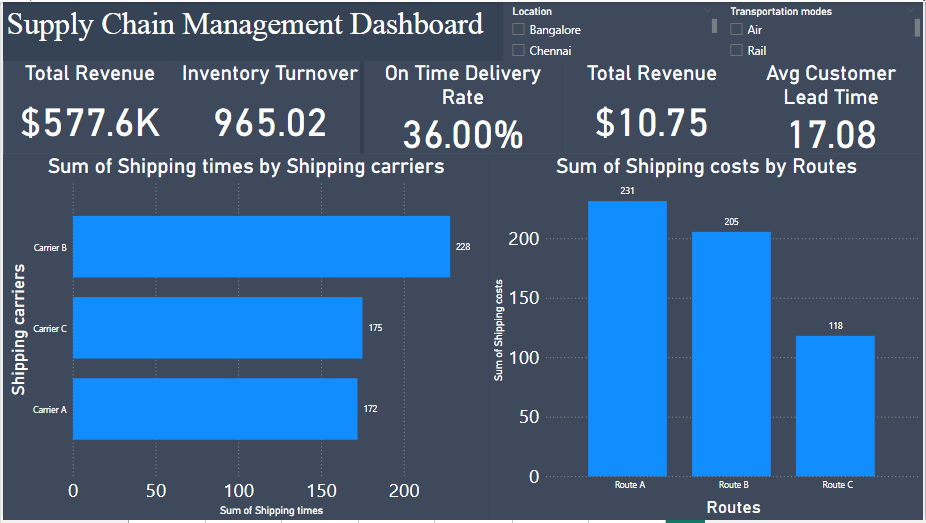

Layout of this report page (visuals, bound fields, positions):
{"tool":"powerbi","page":{"name":"Page 5","canvas":[1280,720],"ordinal":4},"visuals":[{"type":"textbox","box":[0,0,695,82],"z":0},{"type":"card","title":"Total Revenue","fields":{"Values":["supply_chain_data.Total Revenue"]},"box":[1.4,82,239.1,129.3],"z":1000},{"type":"card","title":"Inventory Turnover","fields":{"Values":["supply_chain_data.Stock Turnover Rate"]},"box":[240.5,82,261.3,129.3],"z":2000},{"type":"card","title":"On Time Delivery Rate ","fields":{"Values":["supply_chain_data.Defect Rate"]},"box":[496.2,82,286.3,129.3],"z":3000},{"type":"card","title":"Total Revenue","fields":{"Values":["supply_chain_data.Cost per order"]},"box":[782.5,82,239.1,129.3],"z":4000},{"type":"card","title":"Avg Customer Lead Time","fields":{"Values":["Avg(supply_chain_data.Lead time)"]},"box":[1021.6,82,258.5,129.3],"z":5000},{"type":"slicer","fields":{"Values":["supply_chain_data.Location"]},"box":[695,0,303,82],"z":6000},{"type":"barChart","fields":{"Category":["supply_chain_data.Shipping carriers"],"Y":["Sum(supply_chain_data.Shipping times)"]},"box":[0,211.3,675.5,508.7],"z":7000},{"type":"columnChart","fields":{"Y":["Sum(supply_chain_data.Shipping costs)"],"Category":["supply_chain_data.Routes"]},"box":[675.5,211.3,604.6,508.7],"z":8000},{"type":"slicer","fields":{"Values":["supply_chain_data.Transportation modes"]},"box":[997.8,0,282.2,82],"z":9000}]}

Visuals, with their boxes in screenshot pixels (x1, y1, x2, y2), scaled from the page's 1280x720 canvas onto the 926x523 screenshot:
textbox: region(0, 0, 503, 60)
"Total Revenue" card: region(1, 60, 174, 153)
"Inventory Turnover" card: region(174, 60, 363, 153)
"On Time Delivery Rate " card: region(359, 60, 566, 153)
"Total Revenue" card: region(566, 60, 739, 153)
"Avg Customer Lead Time" card: region(739, 60, 925, 153)
slicer - supply_chain_data.Location: region(503, 0, 722, 60)
barChart - supply_chain_data.Shipping carriers x Sum(supply_chain_data.Shipping times): region(0, 153, 489, 522)
columnChart - Sum(supply_chain_data.Shipping costs) x supply_chain_data.Routes: region(489, 153, 925, 522)
slicer - supply_chain_data.Transportation modes: region(722, 0, 925, 60)
